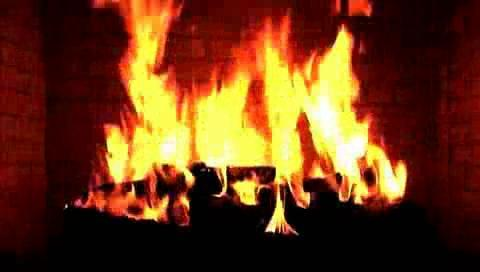fire: (107, 33, 391, 221)
